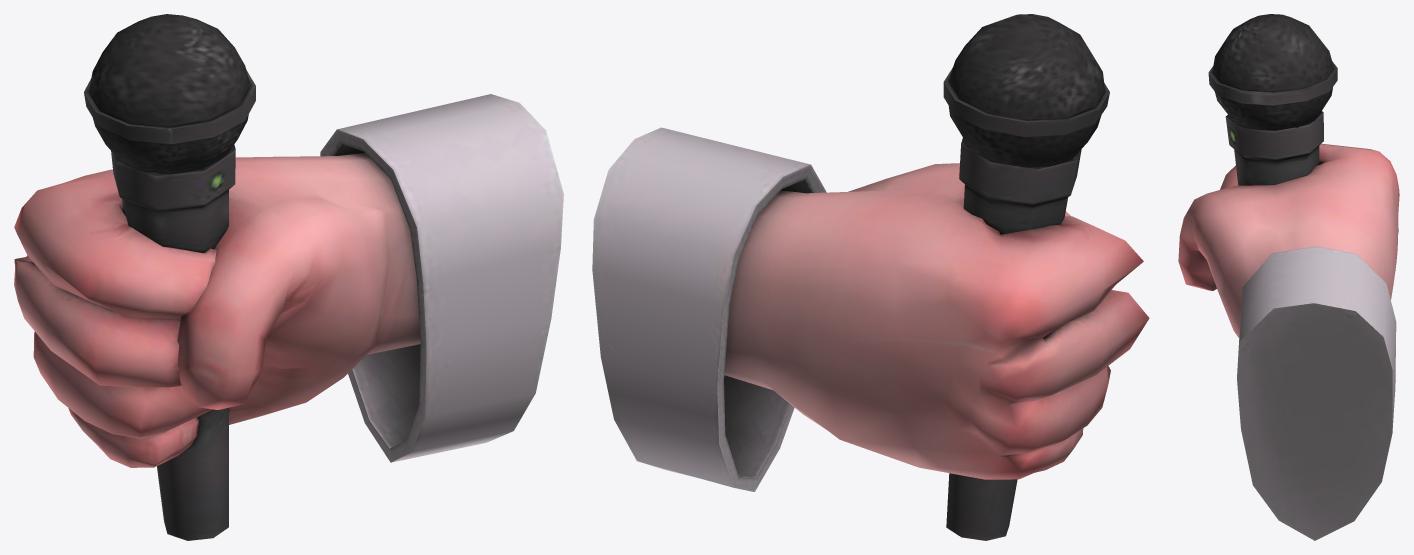
The model's file is avatar1-hand-right.obj.
3 views of the same model, side by side, from view 1: azimuth 30°, elevation 25°; view 2: azimuth 150°, elevation 25°; view 3: azimuth 270°, elevation 25° (orthographic). The views are drawn at different scales.
Visible parts, largest first — view 1: hand-right; view 2: hand-right; view 3: hand-right.
Part boxes in pixels (x1,y1,x2,y2): hand-right: (14,14,563,540); hand-right: (592,14,1149,540); hand-right: (1178,14,1399,540).
Bounding box in the file's own units: 0.2582 × 0.2705 × 0.1373.
1 material, 1 textured.
